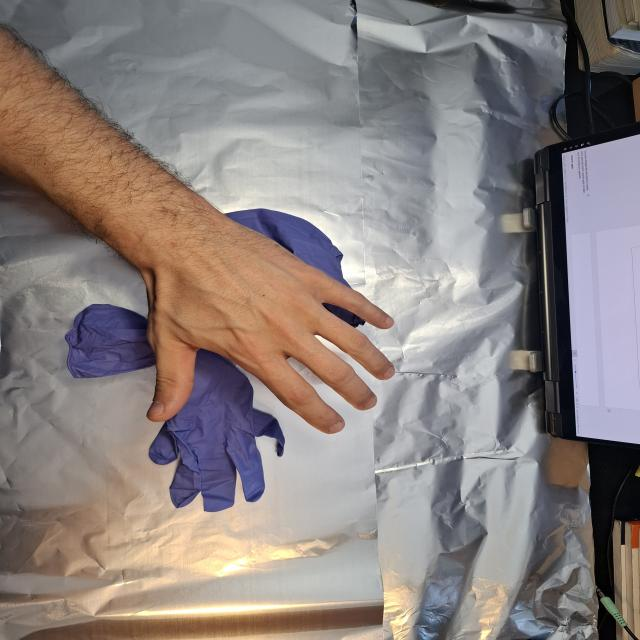glove_off: (136, 225, 398, 436)
